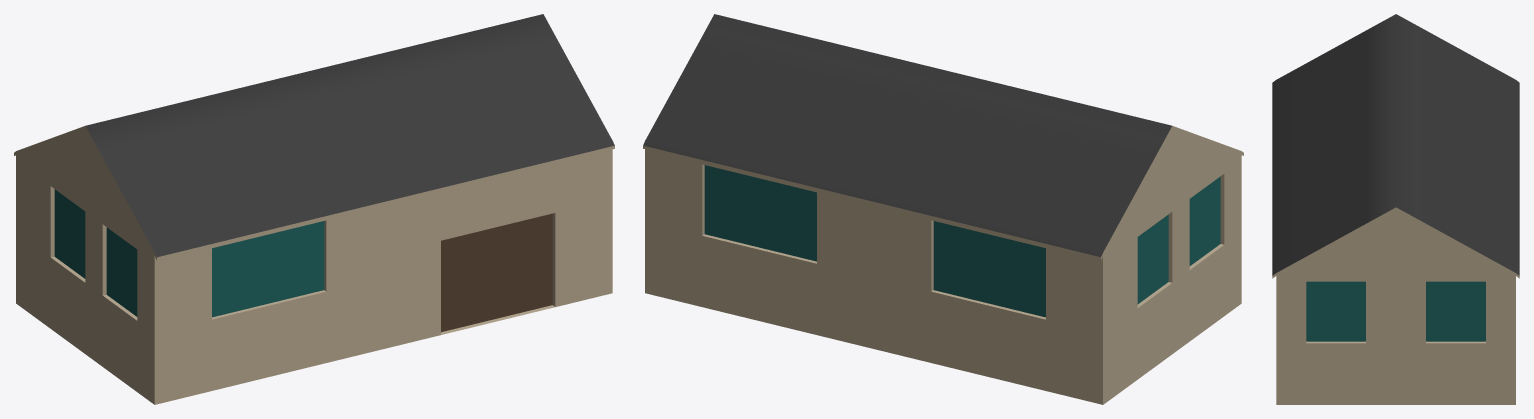
The model's file is House2-1.fbx.
3 renders of one model, left to right at view 1: azimuth 30°, elevation 25°; view 2: azimuth 150°, elevation 25°; view 3: azimuth 270°, elevation 25°, orthographic. The views are drawn at different scales.
Visible parts, largest first — view 1: pCube1.003; view 2: pCube1.003; view 3: pCube1.003.
Boxes of the visible parts, bbox=[...] form: pCube1.003: bbox=[14, 14, 614, 404]; pCube1.003: bbox=[643, 14, 1243, 404]; pCube1.003: bbox=[1272, 14, 1519, 404].
Size of the model in its own units: 23.9 by 11.4 by 12.91.
